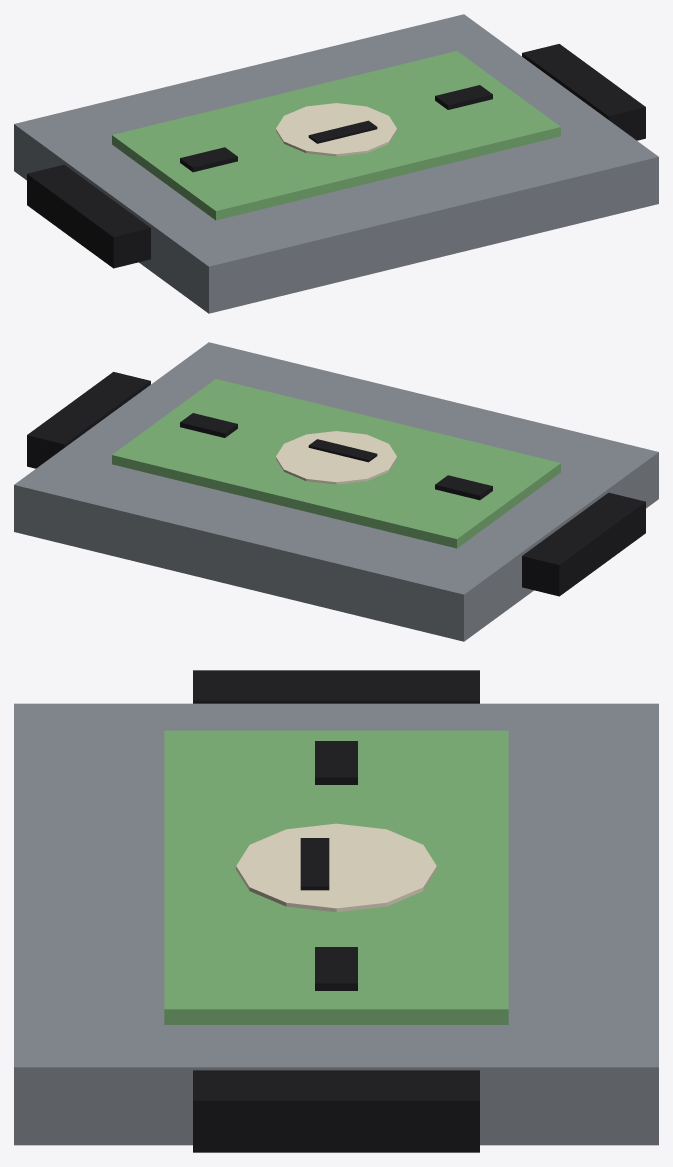
File: printing_plate.glb
3 renders of one model, top to bottom at view 1: azimuth 30°, elevation 25°; view 2: azimuth 150°, elevation 25°; view 3: azimuth 270°, elevation 25°, orthographic. The views are drawn at different scales.
Parts seen in each view (by area): view 1: plate_plate_steel, bill_fake_bill_green, grips_bill_ink, bill_bill_face, bill_bill_ink; view 2: plate_plate_steel, bill_fake_bill_green, grips_bill_ink, bill_bill_face, bill_bill_ink; view 3: plate_plate_steel, bill_fake_bill_green, grips_bill_ink, bill_bill_face, bill_bill_ink.
Boxes of the visible parts, x1,y1,x2,y2 form: plate_plate_steel: [14, 14, 658, 313]; bill_fake_bill_green: [112, 51, 560, 220]; grips_bill_ink: [27, 44, 645, 268]; bill_bill_face: [276, 103, 396, 156]; bill_bill_ink: [180, 85, 492, 172]; plate_plate_steel: [14, 342, 658, 641]; bill_fake_bill_green: [112, 379, 560, 548]; grips_bill_ink: [27, 372, 645, 596]; bill_bill_face: [276, 431, 396, 484]; bill_bill_ink: [180, 413, 492, 500]; plate_plate_steel: [14, 703, 658, 1145]; bill_fake_bill_green: [164, 730, 508, 1024]; grips_bill_ink: [193, 670, 479, 1152]; bill_bill_face: [236, 823, 436, 912]; bill_bill_ink: [300, 741, 357, 990].
Bounding box in the file's own units: 0.71 × 0.078 × 0.45.
